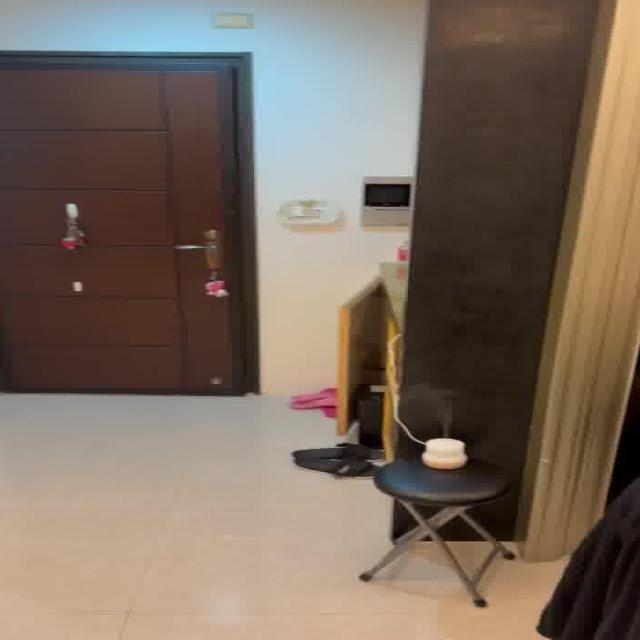fire: (412, 384, 458, 429)
